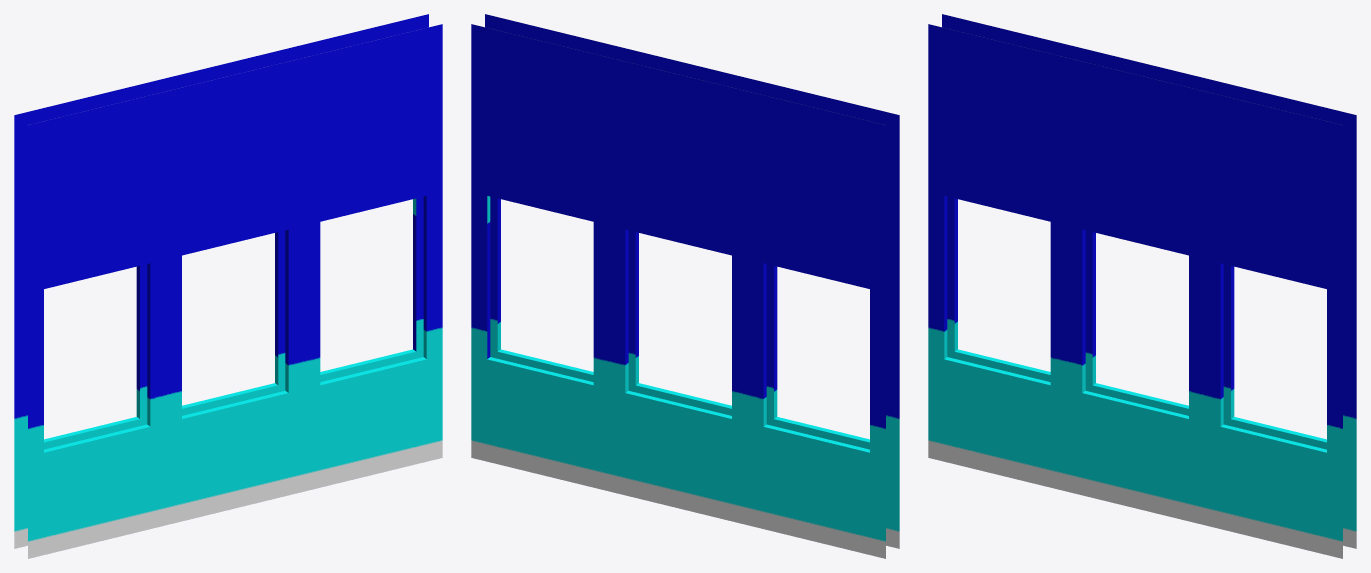
File: SM_Wall_Interior_Visitation.fbx
3 views of the same model, side by side, from view 1: azimuth 30°, elevation 25°; view 2: azimuth 150°, elevation 25°; view 3: azimuth 330°, elevation 25° (orthographic).
Visible parts, largest first — view 1: SM_Wall_Interior_Visitation; view 2: SM_Wall_Interior_Visitation; view 3: SM_Wall_Interior_Visitation.
Part boxes in pixels (box(x1,y1,x2,y2)): SM_Wall_Interior_Visitation: box(14, 14, 442, 558); SM_Wall_Interior_Visitation: box(471, 14, 899, 558); SM_Wall_Interior_Visitation: box(928, 14, 1356, 558).
Size of the model in its own units: 350 by 20 by 350.
1 material, 1 textured.
